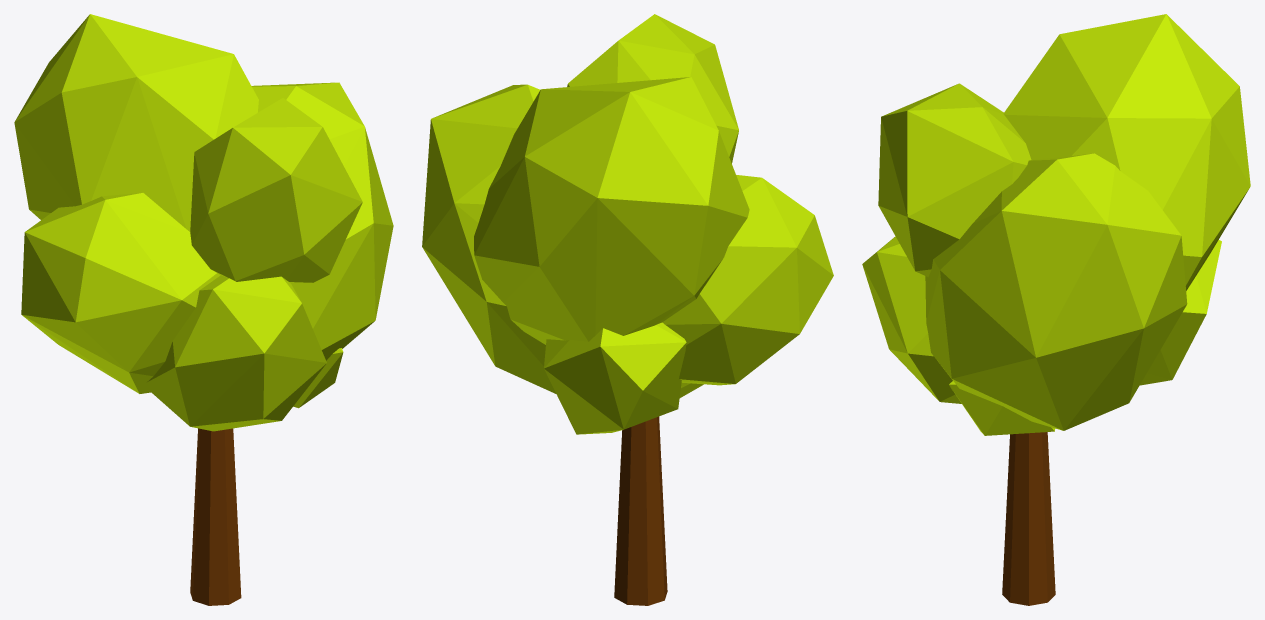
Rendered from m_new_tree1.fbx.
3 views of the same model, side by side, from view 1: azimuth 30°, elevation 25°; view 2: azimuth 150°, elevation 25°; view 3: azimuth 270°, elevation 25° (orthographic). The views are drawn at different scales.
Parts seen in each view (by area): view 1: APPLE_TREE_2.005; view 2: APPLE_TREE_2.005; view 3: APPLE_TREE_2.005.
Part boxes in pixels (x1,y1,x2,y2): APPLE_TREE_2.005: [14, 14, 393, 605]; APPLE_TREE_2.005: [422, 14, 833, 605]; APPLE_TREE_2.005: [862, 14, 1250, 605].
Bounding box in the file's own units: 201 × 296 × 189.
